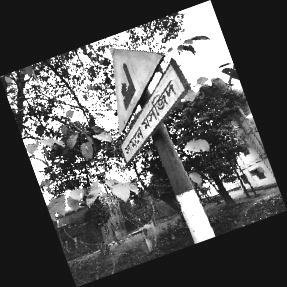Mosque in front: (111, 47, 193, 166)
